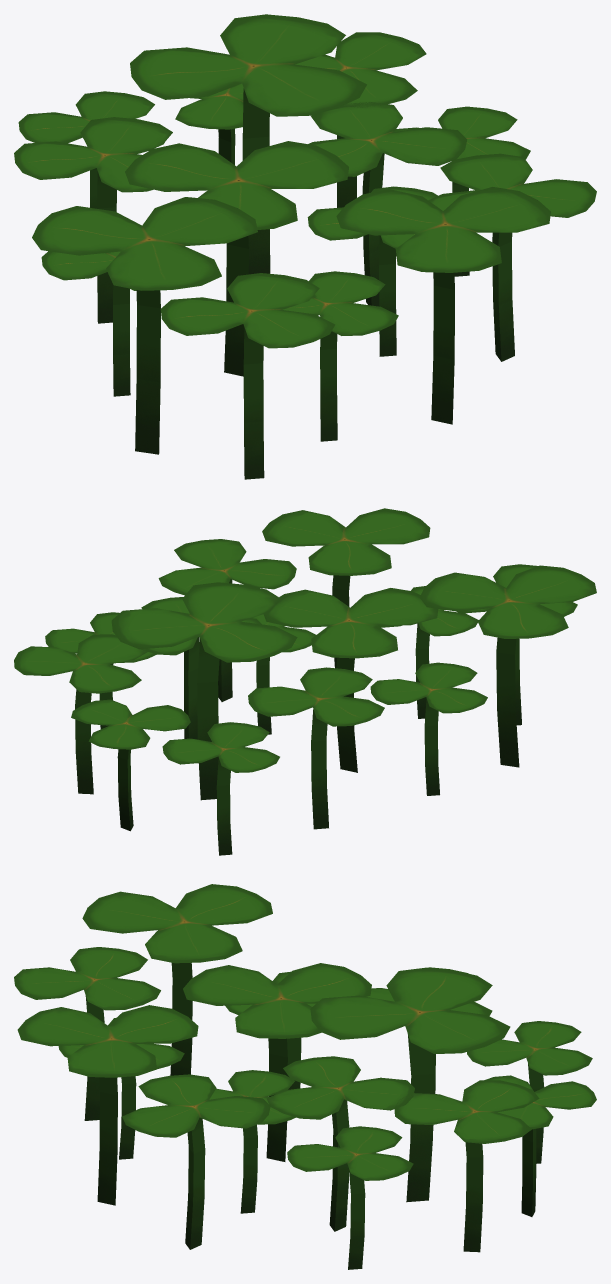
Rendered from S_Clover.fbx.
The picture shows the model from 3 angles, top to bottom: view 1: azimuth 30°, elevation 25°; view 2: azimuth 150°, elevation 25°; view 3: azimuth 270°, elevation 25°; orthographic projection. The views are drawn at different scales.
Parts seen in each view (by area): view 1: polySurface112; view 2: polySurface112; view 3: polySurface112.
Part boxes in pixels (left/top/right/bottom): polySurface112: left=14, top=14, right=596, bottom=479; polySurface112: left=14, top=508, right=596, bottom=855; polySurface112: left=14, top=884, right=596, bottom=1269.
Bounding box in the file's own units: 1.09 × 0.4055 × 1.15.
Materials: 1 (1 with a texture image).
